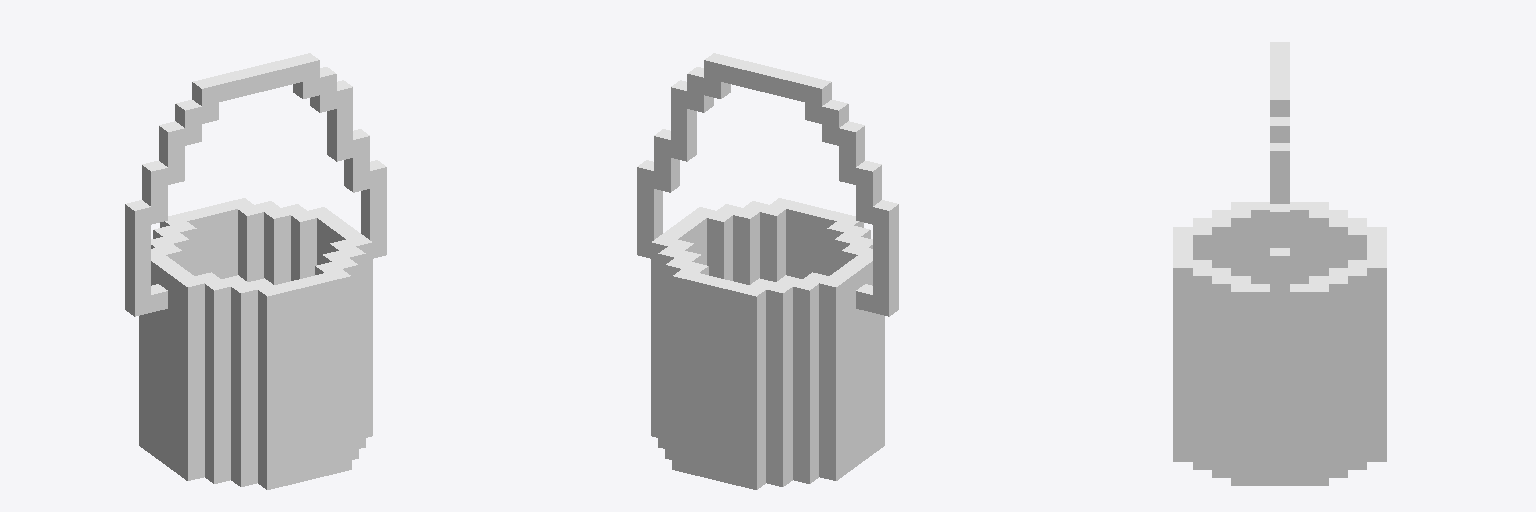
Rendered from Pail_Empty.obj.
The picture shows the model from 3 angles: view 1: azimuth 30°, elevation 25°; view 2: azimuth 150°, elevation 25°; view 3: azimuth 270°, elevation 25°; orthographic projection.
Parts seen in each view (by area): view 1: Pail_Empty; view 2: Pail_Empty; view 3: Pail_Empty.
Boxes of the visible parts, <box> form: Pail_Empty: <box>125,53,386,489</box>; Pail_Empty: <box>637,53,898,489</box>; Pail_Empty: <box>1173,42,1386,485</box>.
Size of the model in its own units: 15 by 21 by 11.